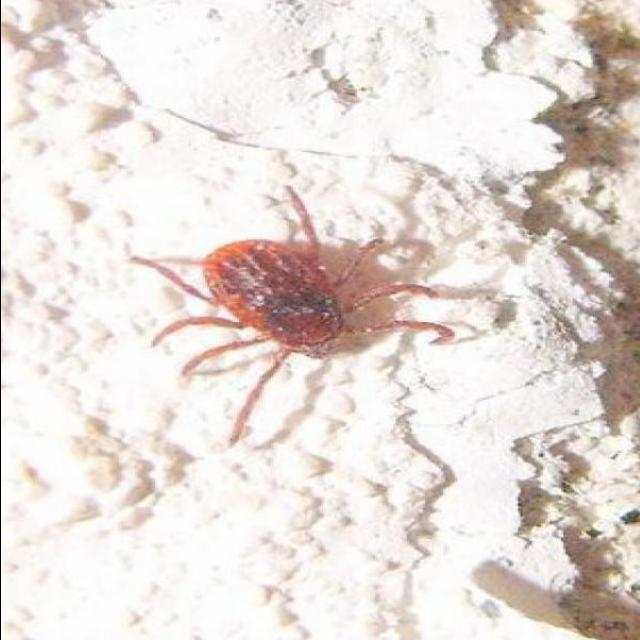Rhipicephalus Sanguineus-F: (129, 185, 497, 447)
